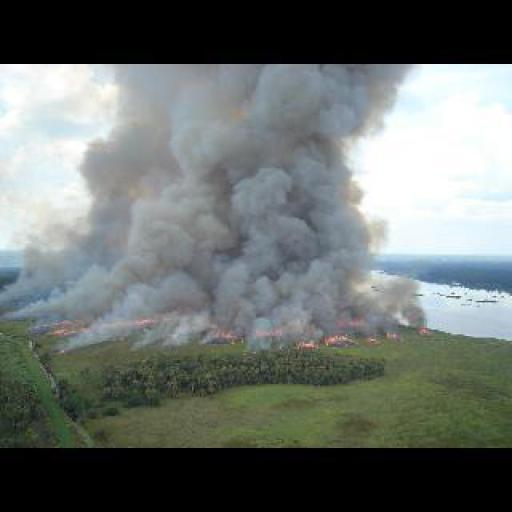smoke: (5, 62, 430, 321), (46, 315, 152, 328), (210, 330, 242, 346), (324, 333, 354, 349), (252, 326, 282, 336), (296, 340, 320, 350), (342, 318, 365, 326), (365, 334, 379, 344), (387, 331, 400, 341), (112, 334, 126, 342), (67, 278, 82, 284), (418, 328, 428, 336), (59, 347, 67, 354), (208, 324, 216, 326)
